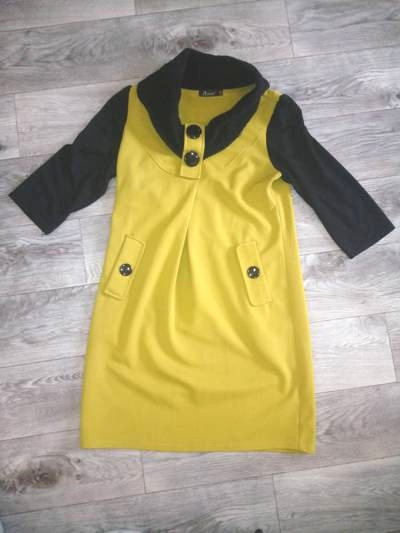Dress: (10, 34, 382, 483)
